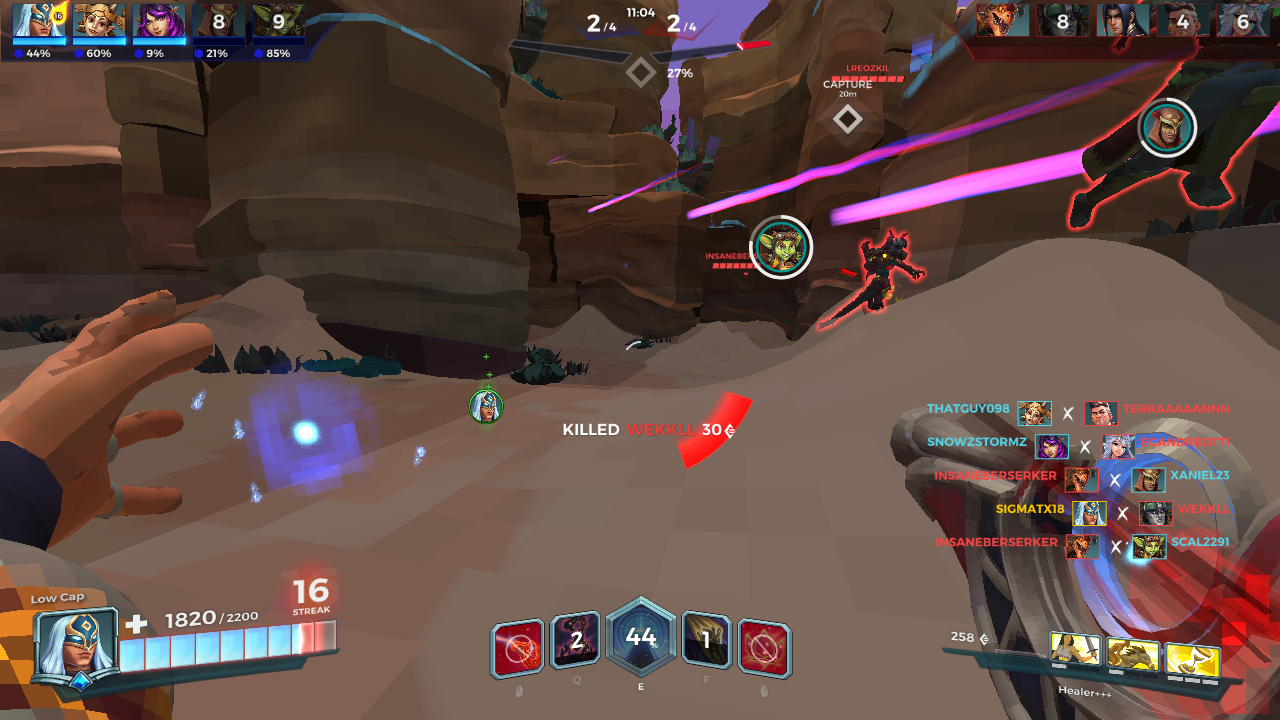model: (1055, 62, 1273, 243), (821, 230, 921, 336)
